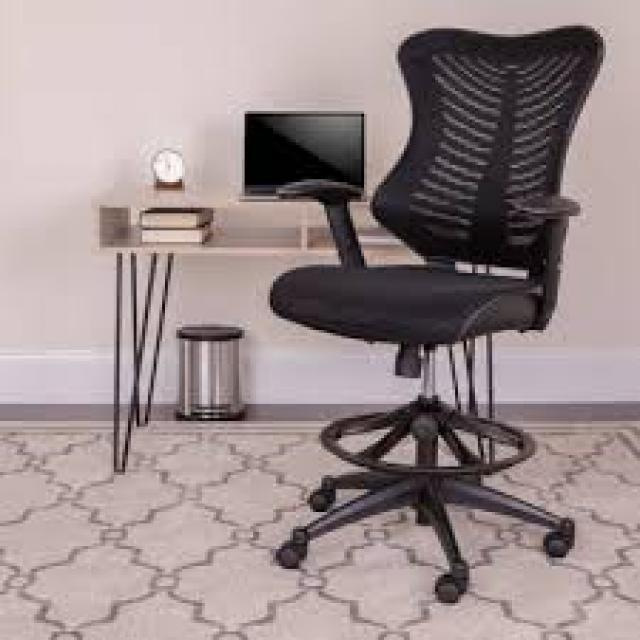chair: (265, 15, 612, 640)
